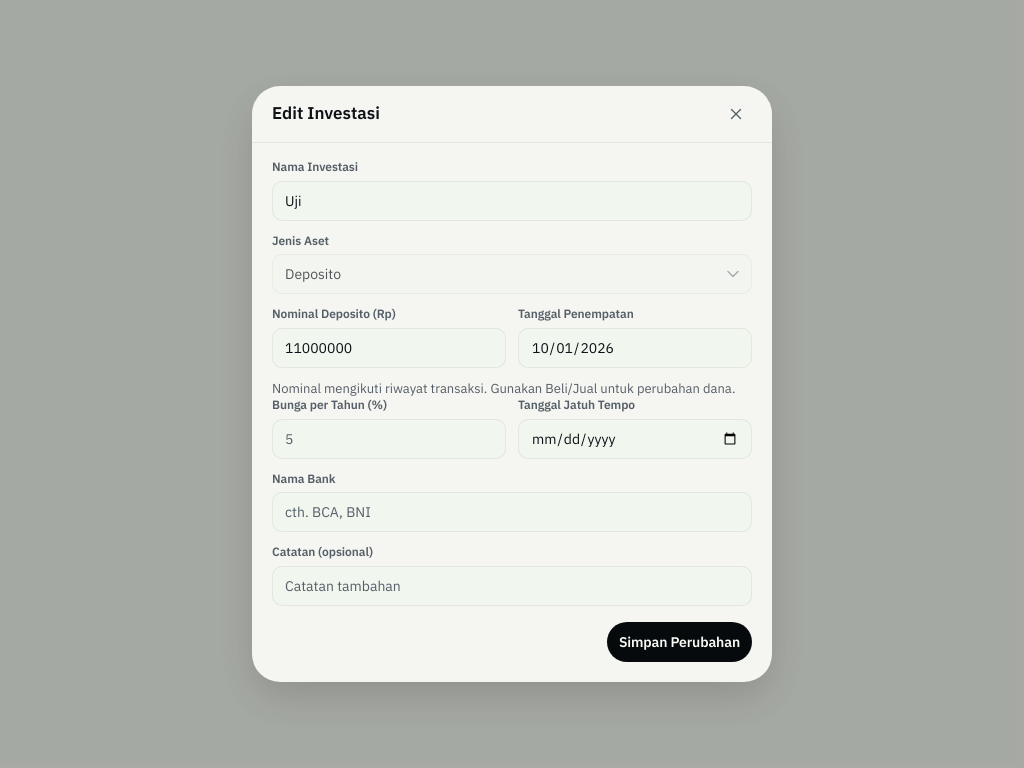
Scenario: validates preserved opening fields when metadata changes after a transaction
In the 2nd date field: x=635, y=439 [518,419,752,459], type "2026-09-01"
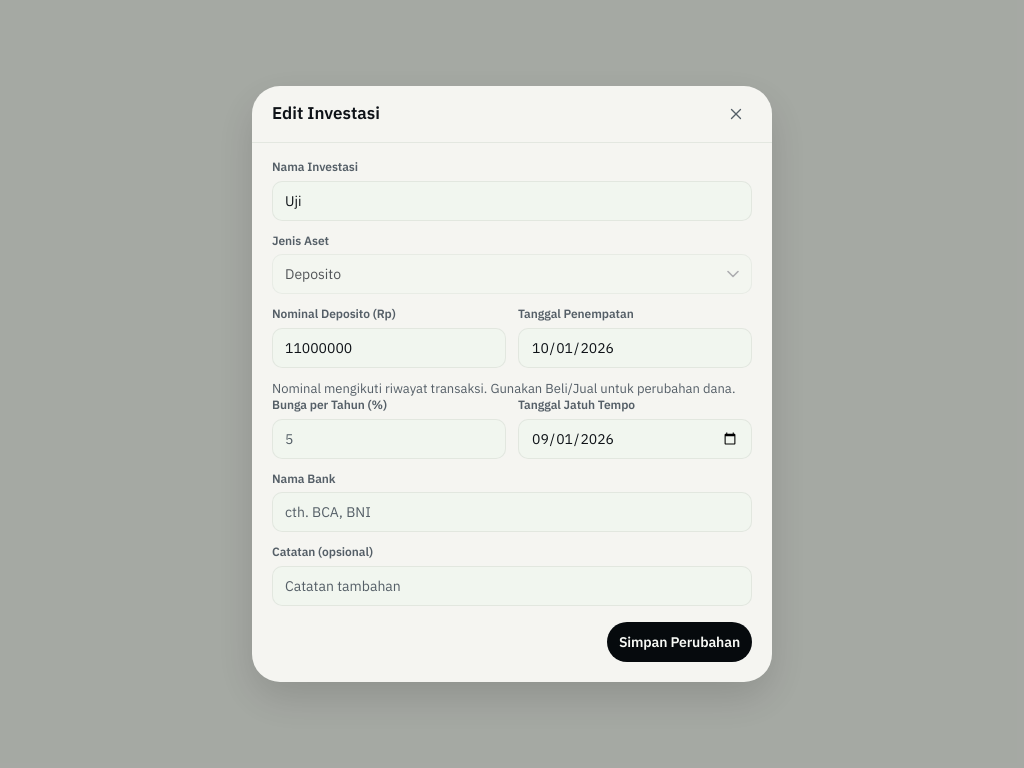
Click the button "Simpan Perubahan": x=679, y=642 [607,622,752,662]
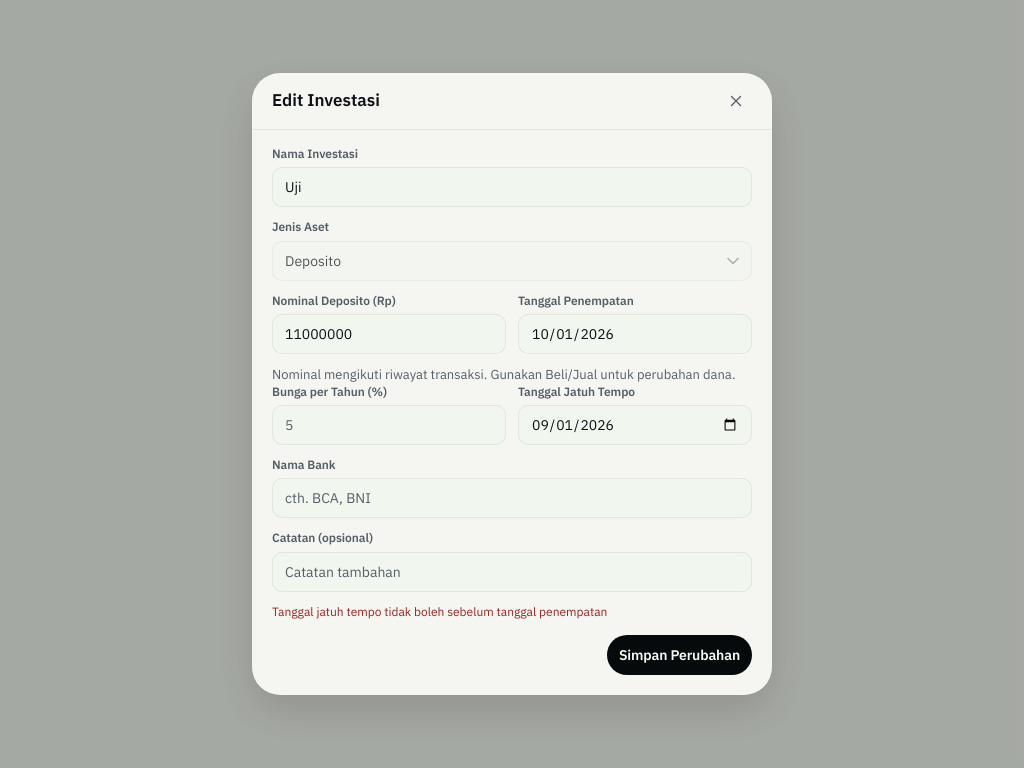
Result: the text "Tanggal jatuh tempo tidak boleh sebelum tanggal penempatan" is shown at [272,604,607,619]
